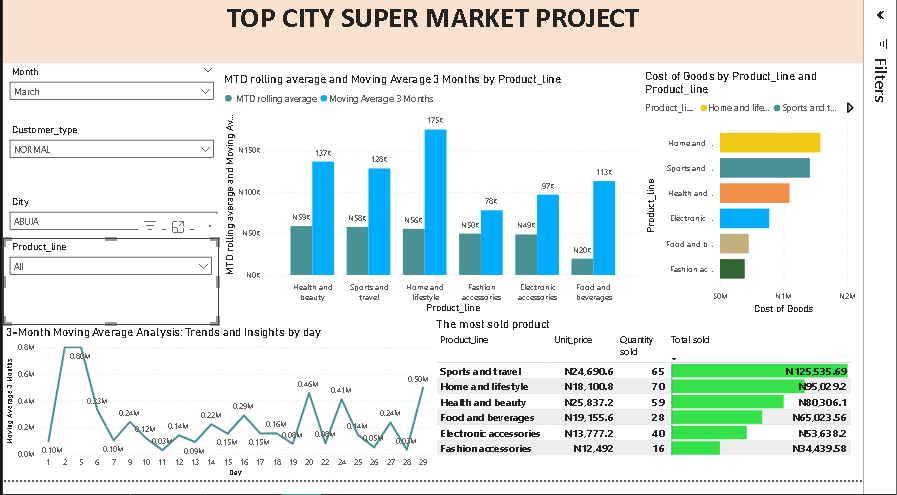

The page's visual inventory and layout, read from the dashboard file:
{"tool":"powerbi","page":{"name":"Page 1","canvas":[1280,720],"ordinal":0},"visuals":[{"type":"slicer","fields":{"Values":["SuperMarket_Standardized.Customer_type"]},"box":[0,186.2,323.9,108],"z":0},{"type":"barChart","fields":{"Category":["SuperMarket_Standardized.Product_line"],"Y":["Sum(SuperMarket_Standardized.Cost of Goods)"],"Series":["SuperMarket_Standardized.Product_line"]},"box":[951.4,108,328.6,369.3],"z":1000},{"type":"clusteredColumnChart","fields":{"Category":["SuperMarket_Standardized.Product_line"],"Y":["SuperMarket_Standardized.Profit_Column MTD rolling average","SuperMarket_Standardized.Moving Average 3 Months"]},"box":[323.9,112.7,627.5,364.6],"z":2000},{"type":"slicer","fields":{"Values":["SuperMarket_Standardized.Date.Variation.Date Hierarchy.Month"]},"box":[0,100.1,323.9,86.1],"z":3000},{"type":"slicer","fields":{"Values":["SuperMarket_Standardized.City"]},"box":[0,292.6,328.6,82.9],"z":4000},{"type":"lineChart","title":"3-Month Moving Average Analysis: Trends and Insights by day","fields":{"Category":["SuperMarket_Standardized.Date.Variation.Date Hierarchy.Day"],"Y":["SuperMarket_Standardized.Moving Average 3 Months"]},"box":[0,489.8,640,230],"z":5000},{"type":"tableEx","title":"The most sold product","fields":{"Values":["SuperMarket_Standardized.Product_line","Median(SuperMarket_Standardized.Unit_price)","SuperMarket_Standardized.Sum of Quantity sold","Median(SuperMarket_Standardized.Total)"]},"box":[640,477.3,640,242.5],"z":6000},{"type":"textbox","box":[0,0,1279.8,99.9],"z":7000},{"type":"slicer","title":"Average Rating by Gender","fields":{"Values":["SuperMarket_Standardized.Product_line"]},"box":[0,359.9,320.8,129.9],"z":8000}]}

Visuals, with their boxes on the page's 1280x720 design canvas (x1, y1, x2, y2). These are canvas units, not pixel positions in the 897x495 screenshot, which may show the page scaled, cropped or inside an application window:
slicer - SuperMarket_Standardized.Customer_type: <bbox>0, 186, 324, 294</bbox>
barChart - SuperMarket_Standardized.Product_line x Sum(SuperMarket_Standardized.Cost of Goods): <bbox>951, 108, 1280, 477</bbox>
clusteredColumnChart - SuperMarket_Standardized.Product_line x SuperMarket_Standardized.Profit_Column MTD rolling average: <bbox>324, 113, 951, 477</bbox>
slicer - SuperMarket_Standardized.Date.Variation.Date Hierarchy.Month: <bbox>0, 100, 324, 186</bbox>
slicer - SuperMarket_Standardized.City: <bbox>0, 293, 329, 376</bbox>
"3-Month Moving Average Analysis: Trends and Insights by day" lineChart: <bbox>0, 490, 640, 720</bbox>
"The most sold product" tableEx: <bbox>640, 477, 1280, 720</bbox>
textbox: <bbox>0, 0, 1280, 100</bbox>
"Average Rating by Gender" slicer: <bbox>0, 360, 321, 490</bbox>
